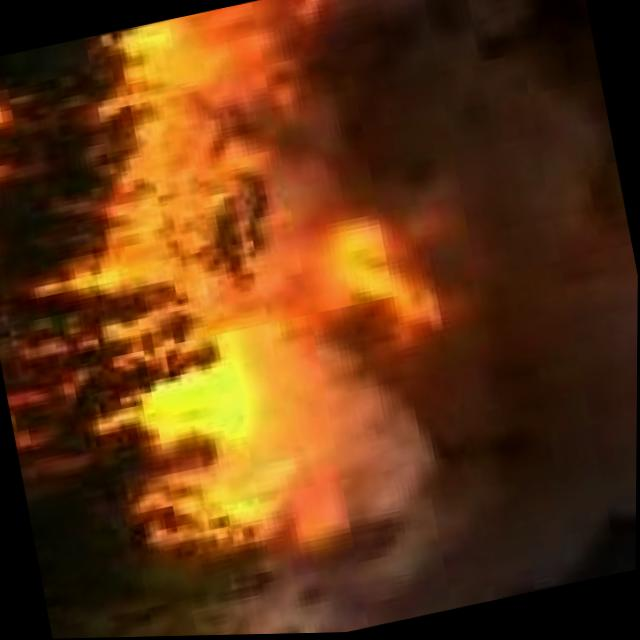fire: (0, 0, 417, 615)
